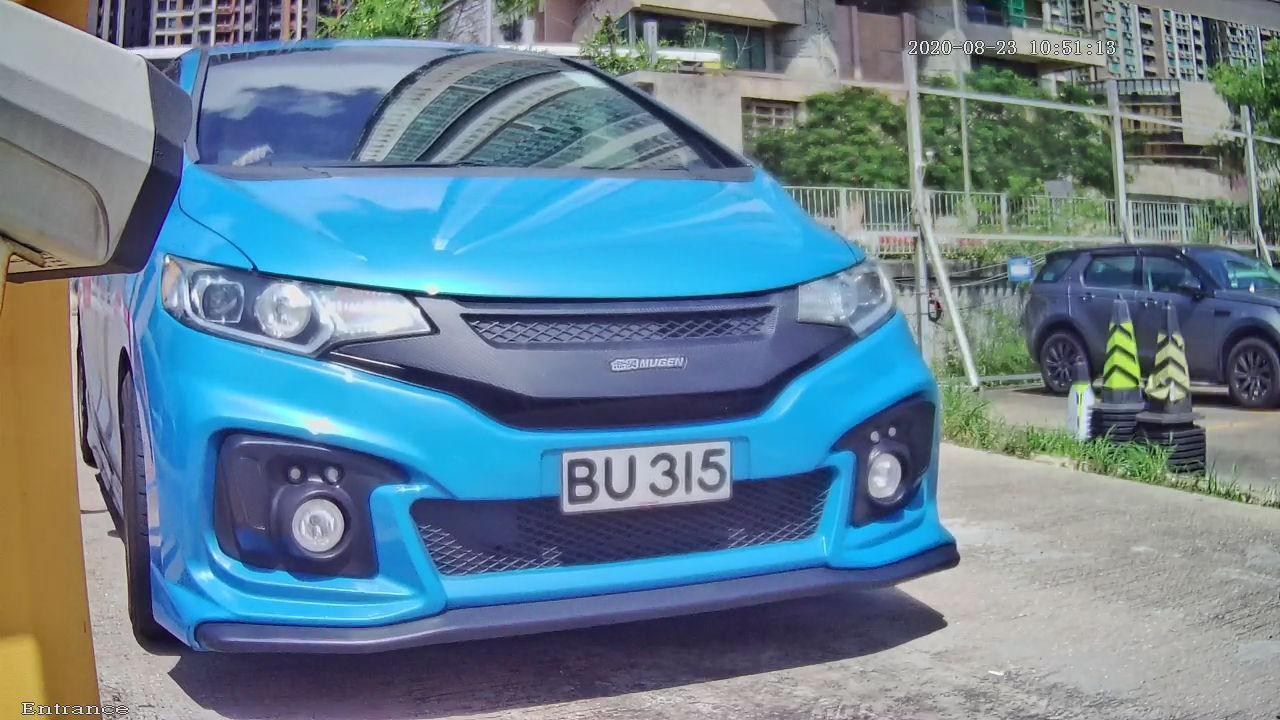Car: (23, 7, 1018, 704)
License Plate: (538, 438, 743, 524)
